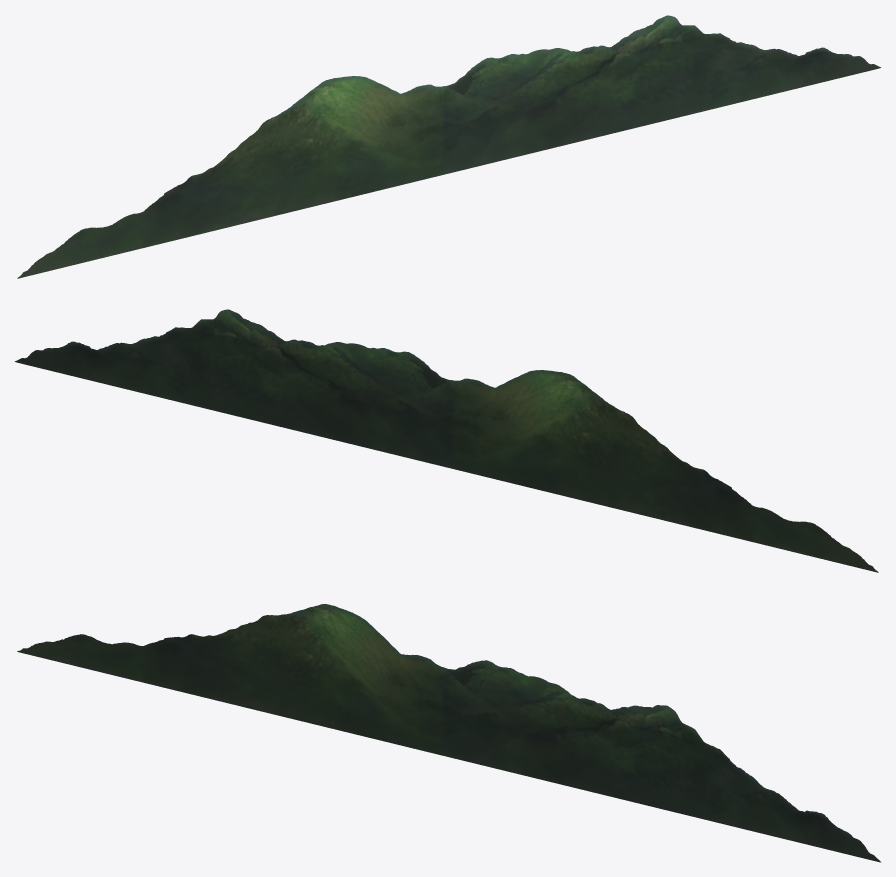
The model's file is FarHill2.fbx.
3 views of the same model, one above another, from view 1: azimuth 30°, elevation 25°; view 2: azimuth 150°, elevation 25°; view 3: azimuth 330°, elevation 25° (orthographic).
Visible parts, largest first — view 1: SM_cmn_mount_far_hill_02a; view 2: SM_cmn_mount_far_hill_02a; view 3: SM_cmn_mount_far_hill_02a.
Boxes of the visible parts, bbox=[...] form: SM_cmn_mount_far_hill_02a: bbox=[17, 15, 881, 278]; SM_cmn_mount_far_hill_02a: bbox=[14, 309, 878, 572]; SM_cmn_mount_far_hill_02a: bbox=[17, 604, 881, 862].
Bounding box in the file's own units: 39654 × 5445 × 2.24e-20.
